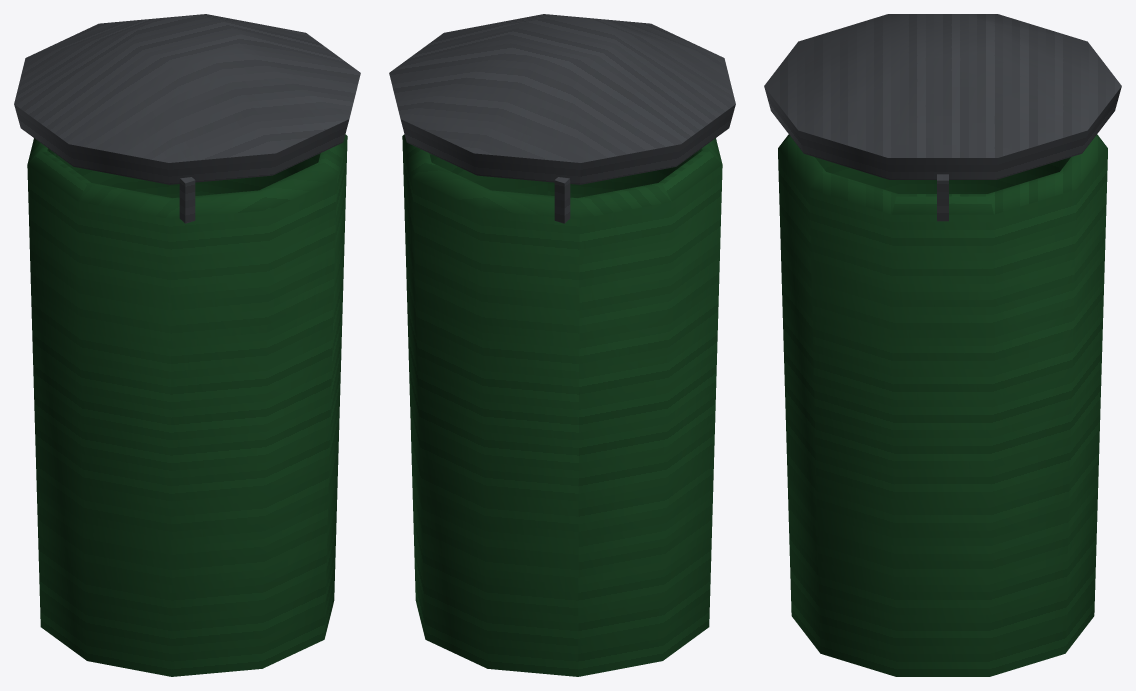
Rendered from lixeira.glb.
The picture shows the model from 3 angles, left to right: view 1: azimuth 30°, elevation 25°; view 2: azimuth 150°, elevation 25°; view 3: azimuth 270°, elevation 25°; orthographic projection.
Visible parts, largest first — view 1: Inteiro; view 2: Inteiro; view 3: Inteiro.
Part boxes in pixels (left/top/right/bottom): Inteiro: left=14, top=14, right=360, bottom=676; Inteiro: left=389, top=14, right=735, bottom=676; Inteiro: left=764, top=14, right=1121, bottom=676.
Size of the model in its own units: 0.5057 by 0.98 by 0.52.
1 material, 1 textured.
